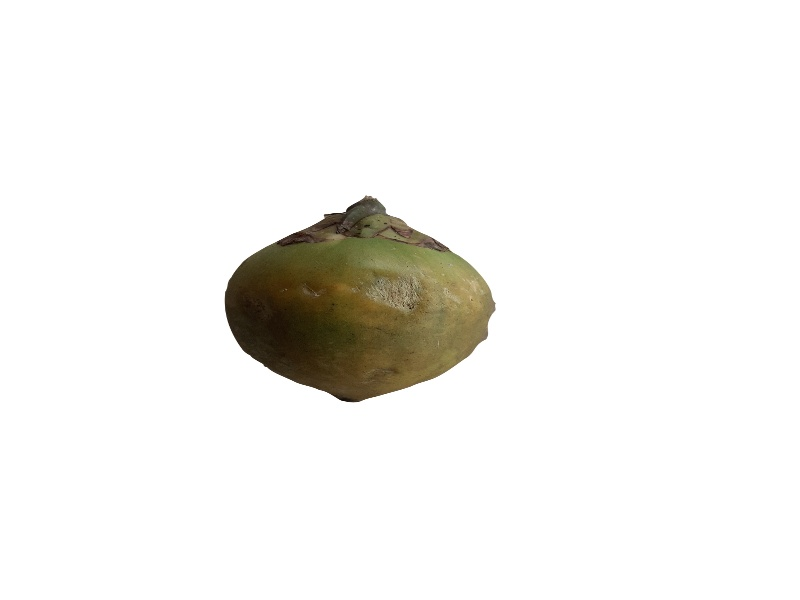arecanut: (222, 193, 497, 407)
